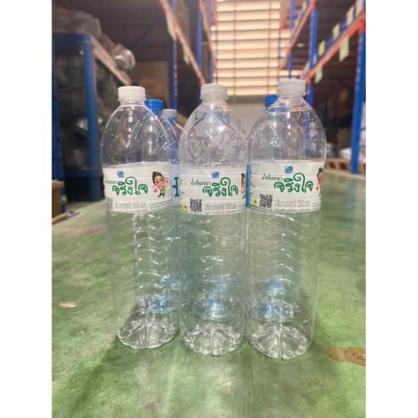bottle: (250, 75, 326, 361), (98, 85, 179, 350), (178, 82, 248, 352)
cap: (277, 77, 309, 97), (117, 86, 146, 107), (199, 83, 229, 103)
label: (248, 160, 324, 214), (102, 162, 176, 215), (178, 164, 250, 215)
